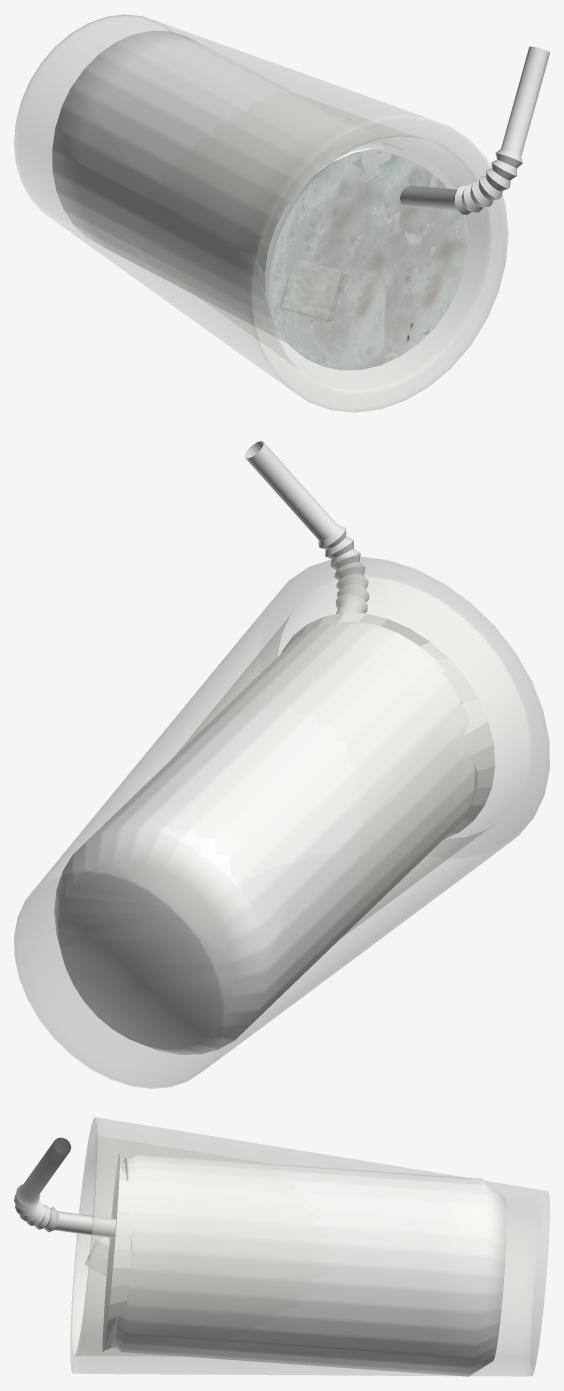
File: lassi.glb
The picture shows the model from 3 angles, top to bottom: view 1: azimuth 30°, elevation 25°; view 2: azimuth 150°, elevation 25°; view 3: azimuth 270°, elevation 25°; orthographic projection. The views are drawn at different scales.
Parts seen in each view (by area): view 1: Vert.010, Cylinder, coffee.001, Vert.009, Cube.005; view 2: Vert.010, Cylinder, Vert.009, coffee.001; view 3: Vert.010, Cylinder, Vert.009, coffee.001, Cube.005.
Part boxes in pixels (x1=…): Vert.010: x1=14, y1=14, x2=507, y2=412; Cylinder: x1=52, y1=30, x2=404, y2=343; coffee.001: x1=256, y1=148, x2=467, y2=370; Vert.009: x1=400, y1=46, x2=549, y2=214; Cube.005: x1=280, y1=260, x2=345, y2=321; Vert.010: x1=14, y1=556, x2=549, y2=1088; Cylinder: x1=54, y1=621, x2=474, y2=1054; Vert.009: x1=244, y1=441, x2=369, y2=613; coffee.001: x1=281, y1=612, x2=495, y2=839; Vert.010: x1=70, y1=1117, x2=549, y2=1376; Cylinder: x1=110, y1=1154, x2=506, y2=1376; Vert.009: x1=14, y1=1137, x2=115, y2=1237; coffee.001: x1=102, y1=1153, x2=134, y2=1351; Cube.005: x1=85, y1=1212, x2=112, y2=1276.
Bounding box in the file's own units: 11 × 12.58 × 20.75.
5 materials, 2 textured.
